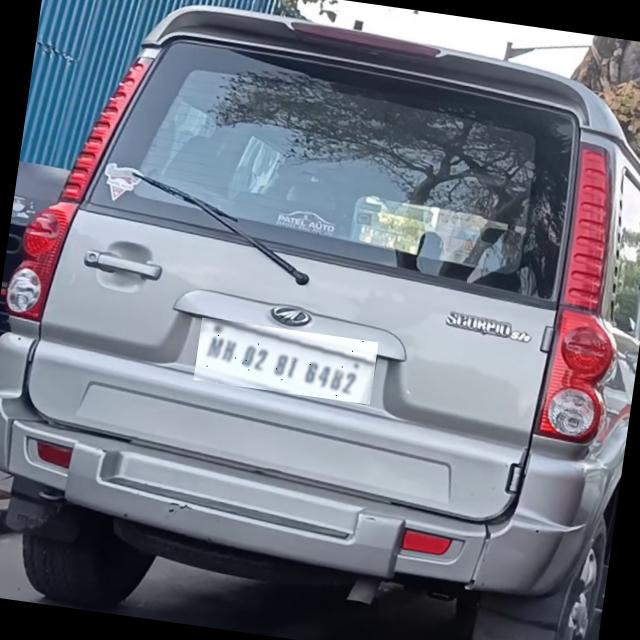Plate: (195, 319, 380, 406)
